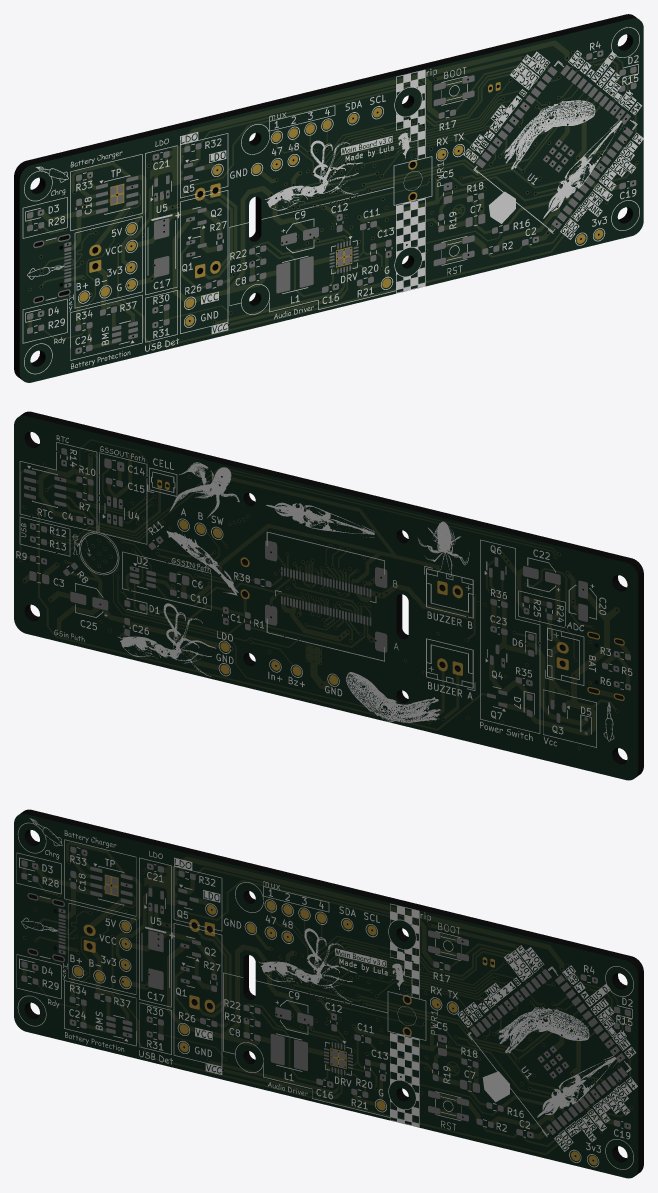
Rendered from main-board-v3.0-bare.glb.
The picture shows the model from 3 angles, top to bottom: view 1: azimuth 30°, elevation 25°; view 2: azimuth 150°, elevation 25°; view 3: azimuth 330°, elevation 25°; orthographic projection.
Parts seen in each view (by area): view 1: SHAPE_5, SHAPE_1, SHAPE_9, SHAPE_3, SHAPE_4; view 2: SHAPE_5, SHAPE_1, SHAPE_9, SHAPE_3, SHAPE_4; view 3: SHAPE_5, SHAPE_1, SHAPE_9, SHAPE_3, SHAPE_4.
Boxes of the visible parts, left/top/right/bottom form: SHAPE_5: left=19, top=18, right=643, bottom=382; SHAPE_1: left=14, top=14, right=642, bottom=382; SHAPE_9: left=22, top=27, right=643, bottom=374; SHAPE_3: left=29, top=41, right=638, bottom=348; SHAPE_4: left=27, top=50, right=636, bottom=354; SHAPE_5: left=14, top=415, right=638, bottom=780; SHAPE_1: left=14, top=411, right=643, bottom=779; SHAPE_9: left=16, top=435, right=632, bottom=747; SHAPE_3: left=19, top=440, right=629, bottom=749; SHAPE_4: left=24, top=448, right=630, bottom=734; SHAPE_5: left=14, top=813, right=638, bottom=1178; SHAPE_1: left=14, top=809, right=643, bottom=1177; SHAPE_9: left=16, top=818, right=637, bottom=1169; SHAPE_3: left=23, top=839, right=632, bottom=1165; SHAPE_4: left=21, top=846, right=630, bottom=1138.
Bounding box in the file's own units: 0.102 × 0.034 × 0.00175.
